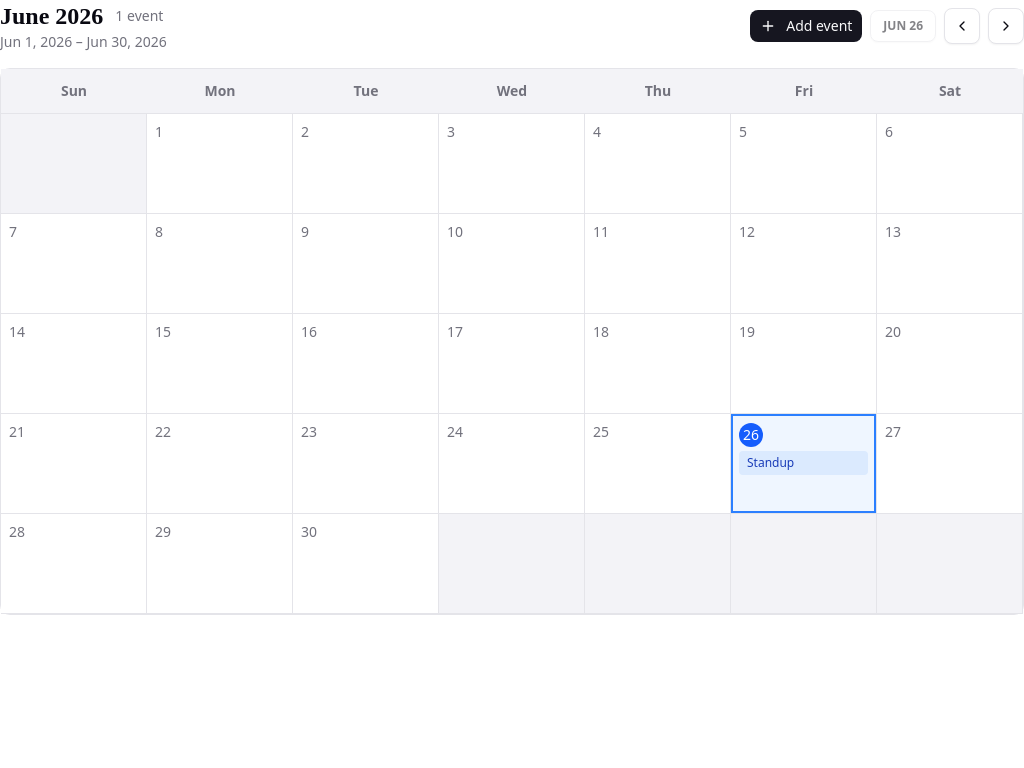
SimpleCalendar › Event click opens detail modal › renders the delete button on writable calendars (#266)
Click the button "Standup": (804, 463) x1=739 y1=451 x2=868 y2=475
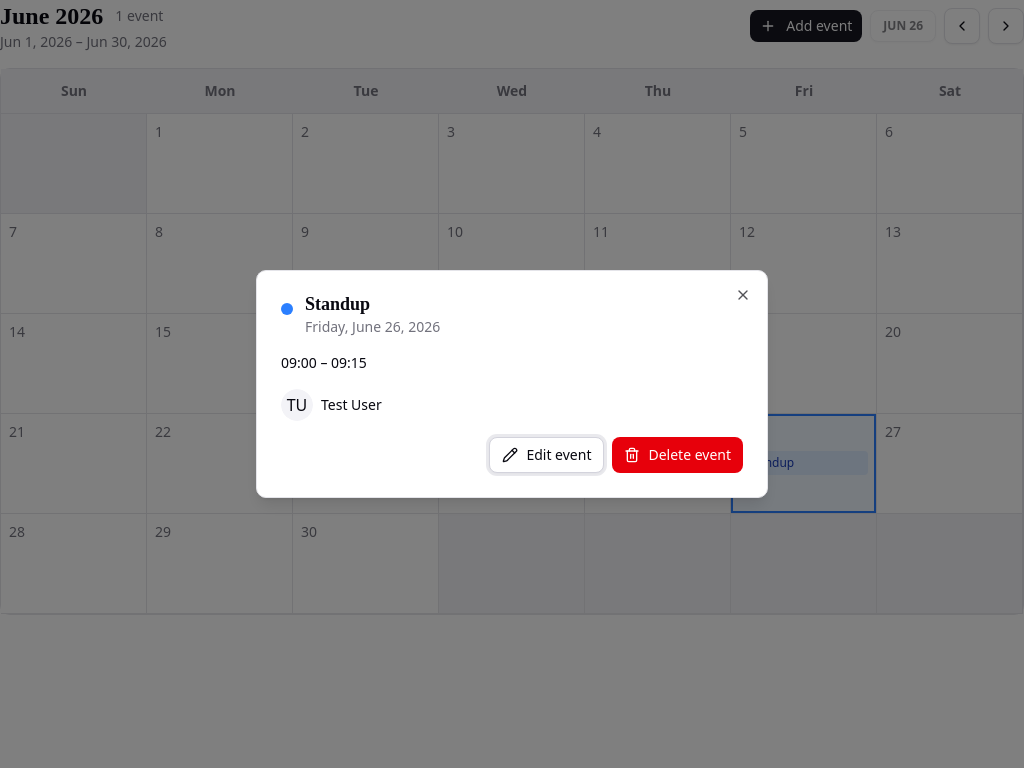
Check: the button "Delete event" is shown, box x1=612 y1=437 x2=743 y2=473
